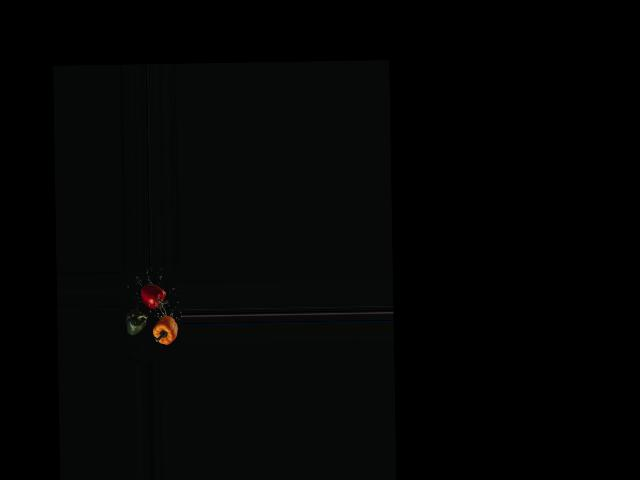bell_pepper: (135, 283, 172, 313)
